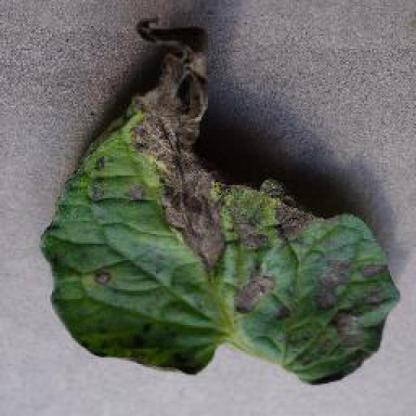Tomato_Blight: (41, 20, 401, 386), (248, 279, 250, 281)
